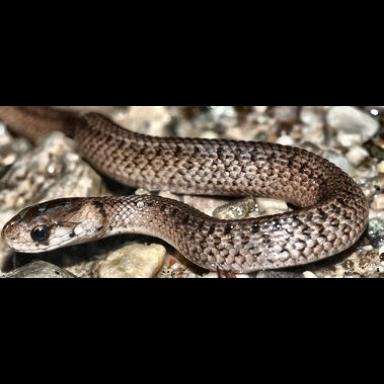snake: (0, 106, 369, 275)
